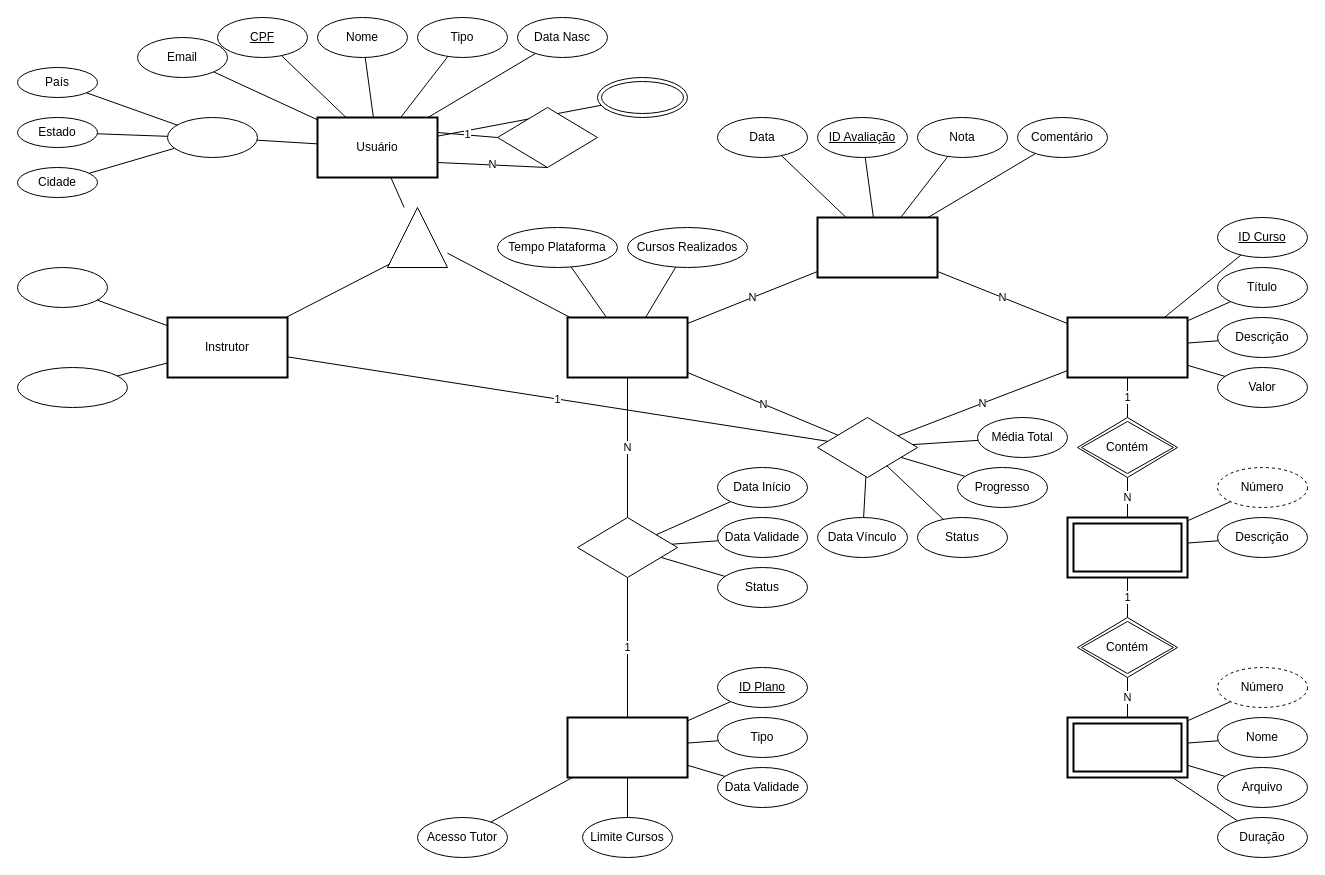
The diagram is 1325 pixels wide and 875 high, and some of its shapes have lost their labels. Each missing label, with the centre of its shape:
"Aluno" goes at pixel 627 347.
"Aula" goes at pixel 1127 747.
"Avaliação" goes at pixel 877 247.
"Biografia" goes at pixel 62 287.
"Curso" goes at pixel 1127 347.
"Especialização" goes at pixel 72 387.
"Indicação" goes at pixel 547 137.
"ISA" goes at pixel 417 237.
"Localidade" goes at pixel 212 137.
"Módulo" goes at pixel 1127 547.
"Plano" goes at pixel 627 747.
"Possui" goes at pixel 627 547.
"Telefone" goes at pixel 642 97.
"Vínculo" goes at pixel 867 447.
